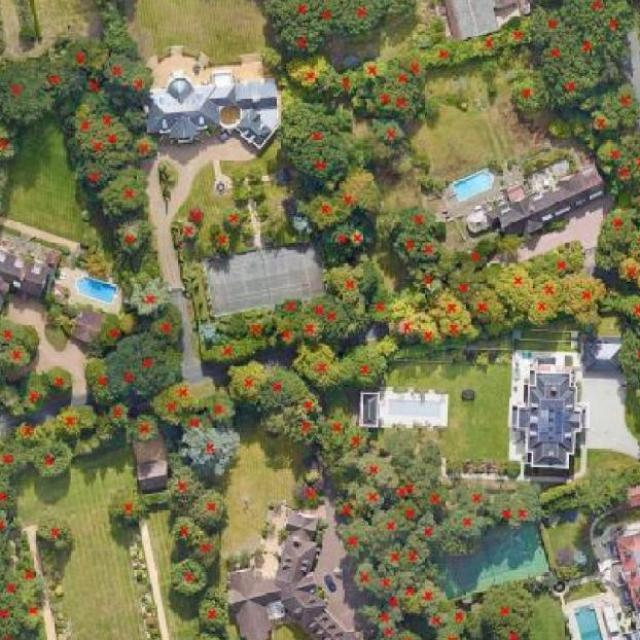tree: (332, 332, 404, 404), (274, 94, 357, 153), (474, 572, 544, 637), (279, 135, 357, 193), (311, 204, 385, 263), (0, 52, 57, 126), (178, 419, 247, 478), (276, 40, 336, 106), (552, 268, 613, 332), (535, 64, 613, 114), (520, 230, 594, 280), (331, 0, 417, 43), (98, 159, 158, 220), (287, 331, 343, 396), (102, 343, 161, 404), (128, 325, 176, 396), (32, 50, 90, 106), (573, 466, 632, 521), (316, 255, 372, 312), (251, 0, 327, 41), (106, 478, 158, 536), (28, 506, 82, 561), (194, 332, 272, 370), (565, 23, 614, 82), (259, 363, 313, 416), (503, 68, 556, 122), (104, 208, 159, 260), (503, 289, 571, 331), (327, 513, 385, 562), (76, 346, 119, 412), (266, 19, 332, 62), (219, 358, 279, 405), (361, 499, 417, 549), (590, 199, 640, 255), (552, 0, 622, 40), (158, 452, 205, 511), (300, 183, 348, 240), (26, 432, 79, 483), (450, 232, 503, 282), (67, 155, 124, 201), (311, 400, 360, 453), (387, 47, 442, 94), (601, 72, 640, 137), (431, 307, 487, 352), (337, 165, 385, 217), (363, 111, 417, 157), (489, 253, 538, 303), (166, 552, 216, 600), (125, 272, 173, 322), (186, 483, 239, 528), (596, 0, 637, 58), (408, 472, 458, 518), (362, 73, 404, 127), (439, 510, 495, 550), (452, 474, 505, 516), (321, 57, 368, 104), (86, 94, 136, 138), (381, 221, 424, 272), (406, 508, 457, 550), (148, 296, 187, 350), (396, 529, 436, 581), (92, 40, 136, 87), (380, 298, 424, 345), (528, 35, 575, 79), (609, 325, 640, 391), (414, 34, 458, 80), (124, 54, 160, 110), (387, 80, 429, 128), (362, 282, 403, 331), (6, 556, 51, 600), (522, 2, 574, 40), (403, 260, 450, 300), (13, 370, 52, 418), (188, 526, 232, 568), (124, 126, 166, 170), (90, 116, 138, 154), (524, 270, 569, 310), (47, 398, 98, 433), (351, 478, 395, 518), (428, 287, 472, 327), (308, 0, 348, 44), (145, 389, 191, 427), (404, 580, 450, 618), (354, 446, 399, 484), (379, 64, 436, 94), (0, 428, 35, 476), (584, 102, 624, 144), (167, 506, 211, 544), (586, 130, 630, 168), (393, 200, 442, 234), (9, 412, 52, 450), (393, 464, 436, 502), (192, 592, 232, 632), (72, 64, 112, 104), (620, 190, 640, 270), (0, 317, 44, 353), (391, 490, 427, 534), (353, 50, 392, 90), (0, 336, 41, 374), (512, 489, 548, 532), (198, 387, 242, 422), (126, 410, 164, 450), (320, 300, 358, 340), (94, 309, 128, 353), (488, 486, 522, 530), (59, 134, 104, 167), (100, 395, 138, 433), (288, 478, 326, 516), (502, 16, 540, 54), (489, 611, 538, 640), (216, 200, 253, 236), (263, 297, 316, 322), (0, 567, 31, 609), (164, 380, 207, 410), (175, 406, 218, 436), (0, 586, 28, 632), (467, 29, 506, 62), (343, 552, 372, 596), (0, 116, 25, 167), (280, 418, 318, 451), (416, 314, 446, 355), (43, 362, 78, 397), (258, 406, 294, 440), (374, 590, 410, 624), (372, 564, 408, 598), (419, 232, 448, 274), (611, 246, 640, 288), (14, 595, 46, 633), (209, 227, 241, 264), (55, 108, 104, 132), (620, 133, 640, 191), (442, 596, 476, 630), (357, 603, 405, 627), (223, 306, 253, 344), (296, 314, 328, 348), (0, 502, 19, 559), (294, 384, 330, 414), (620, 412, 640, 464), (174, 214, 204, 248), (0, 472, 24, 514), (371, 617, 414, 640), (606, 160, 636, 192), (0, 154, 14, 222), (620, 287, 640, 332), (422, 604, 450, 636), (268, 324, 306, 347), (0, 613, 31, 640), (432, 617, 468, 640), (196, 584, 240, 602), (626, 176, 640, 232), (246, 317, 275, 344), (386, 623, 430, 640), (188, 626, 236, 640), (306, 294, 331, 320), (184, 202, 208, 227), (414, 172, 439, 194), (248, 185, 269, 209), (243, 163, 266, 183), (227, 183, 248, 204), (447, 630, 488, 640), (227, 166, 247, 186), (275, 523, 294, 544)
